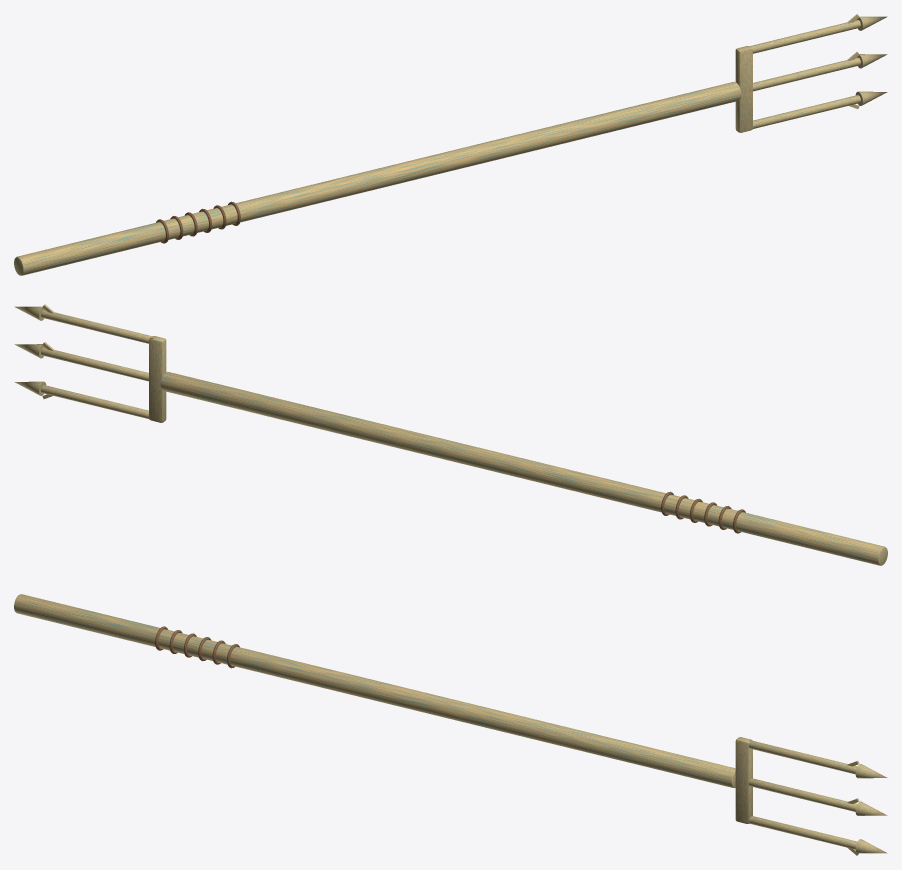
Rendered from trident.glb.
3 renders of one model, top to bottom at view 1: azimuth 30°, elevation 25°; view 2: azimuth 150°, elevation 25°; view 3: azimuth 330°, elevation 25°, orthographic.
Parts seen in each view (by area): view 1: shaft, crossbar, tine0.05, tine-0.05, tine0.0; view 2: shaft, crossbar, tine0.05, tine-0.05, tine0.0; view 3: shaft, crossbar, tine-0.05, tine0.05, tine0.0.
Boxes of the visible parts, x1=… form: shaft: x1=14, y1=82, x2=741, y2=275; crossbar: x1=735, y1=46, x2=752, y2=132; tine0.05: x1=749, y1=20, x2=860, y2=53; tine-0.05: x1=753, y1=95, x2=860, y2=128; tine0.0: x1=753, y1=57, x2=860, y2=91; shaft: x1=160, y1=372, x2=887, y2=565; crossbar: x1=149, y1=336, x2=166, y2=422; tine0.05: x1=41, y1=310, x2=152, y2=343; tine-0.05: x1=41, y1=385, x2=148, y2=418; tine0.0: x1=41, y1=347, x2=148, y2=381; shaft: x1=14, y1=594, x2=735, y2=787; crossbar: x1=735, y1=737, x2=752, y2=823; tine-0.05: x1=748, y1=816, x2=857, y2=849; tine0.05: x1=749, y1=740, x2=857, y2=774; tine0.0: x1=748, y1=778, x2=857, y2=811.
Bounding box in the file's own units: 1.21 × 0.1255 × 0.03.
Materials: 1 (1 with a texture image).
